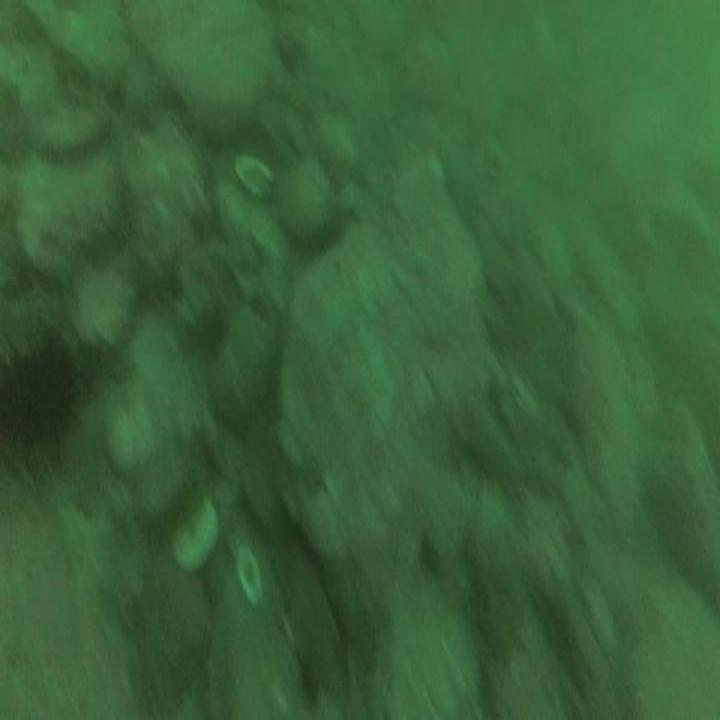echinus: (4, 327, 80, 477)
